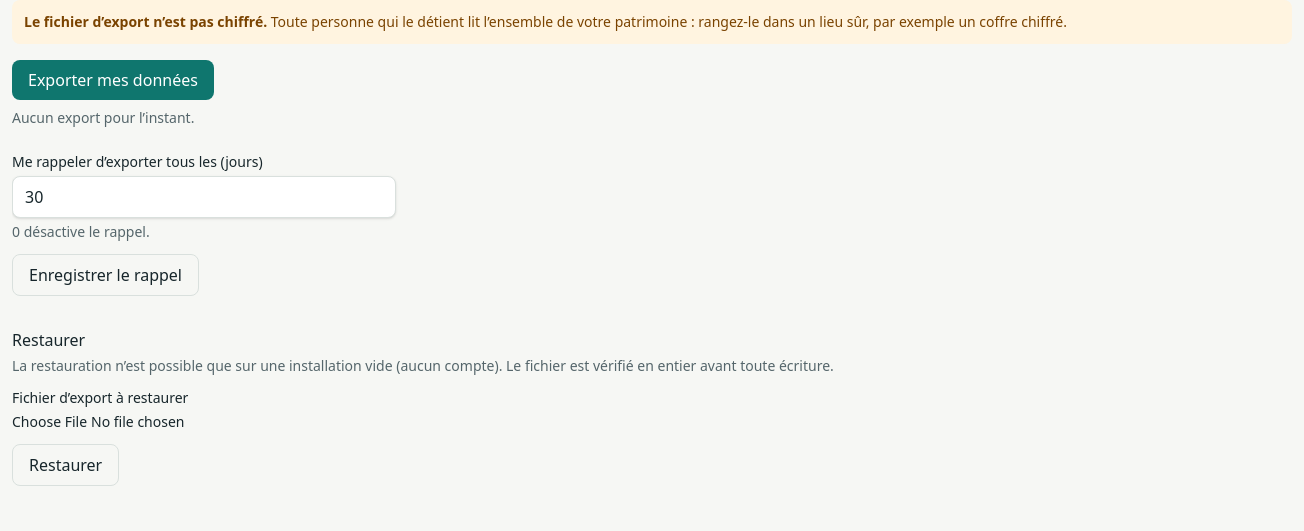
export › exporte puis confirme
Click the button "Exporter mes données" at (113, 80), box [12,60,214,100]
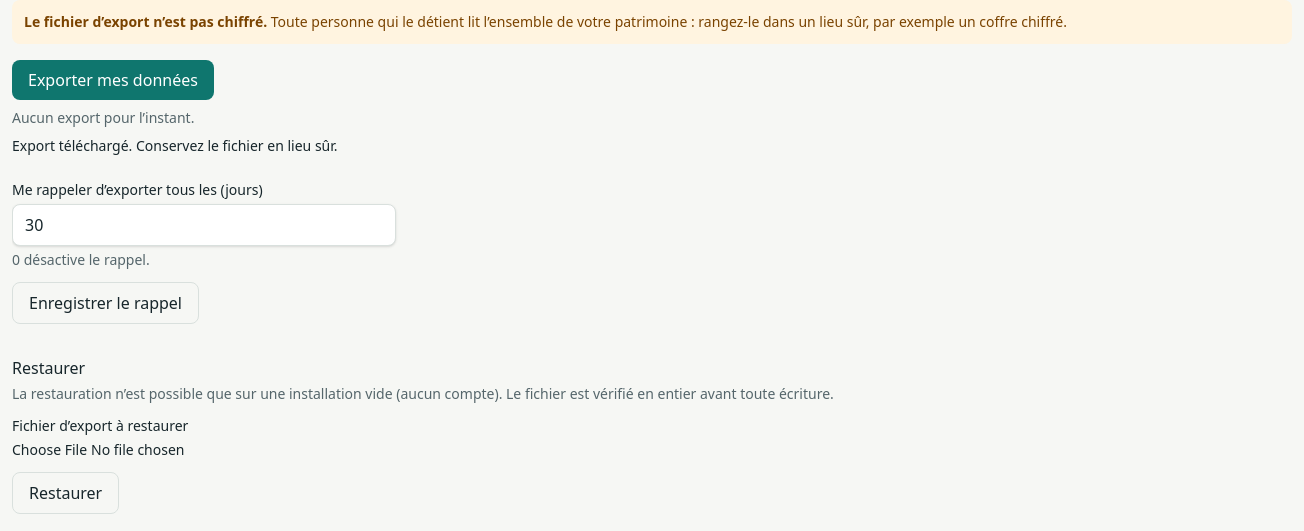
expect the message shows "Export téléchargé": met, box [12,136,338,155]
